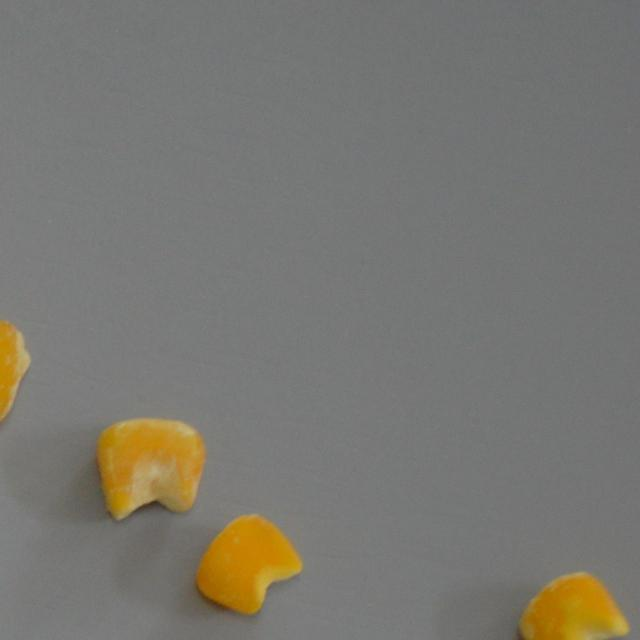pelicula: (96, 416, 205, 523), (195, 512, 303, 616), (518, 570, 630, 640), (0, 318, 30, 430)
